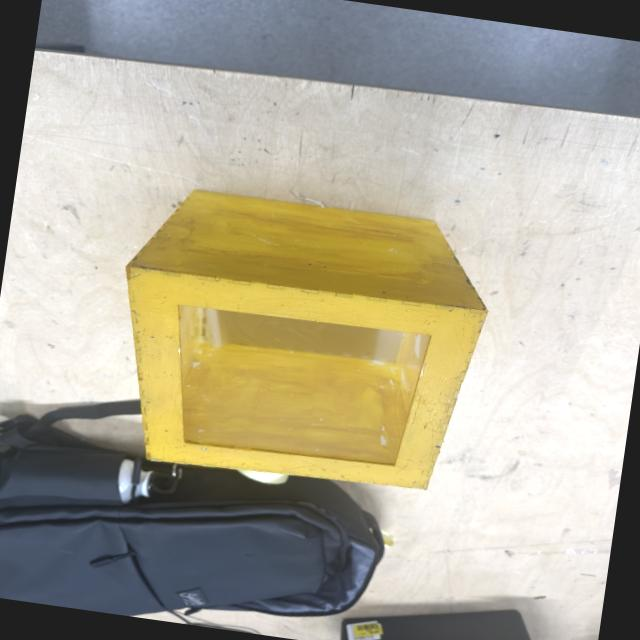yellow_bin: (100, 176, 500, 506)
